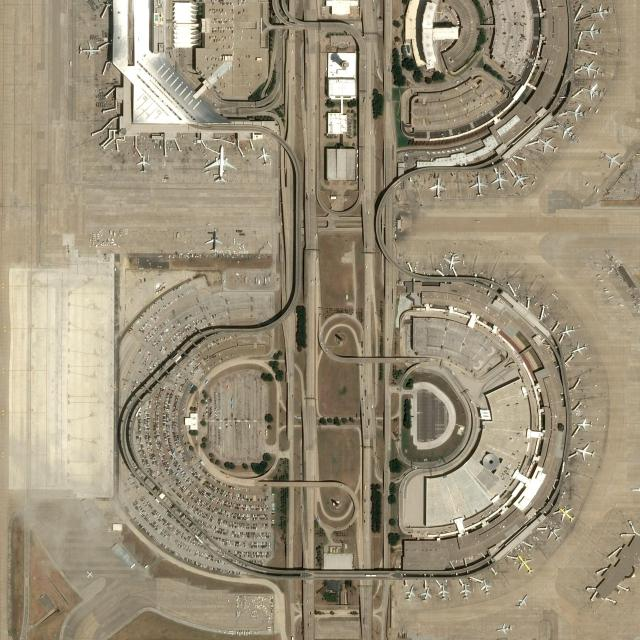aircraft: (202, 144, 236, 182), (602, 150, 626, 170), (76, 40, 100, 58), (426, 177, 446, 198), (579, 59, 601, 78), (468, 175, 487, 196), (516, 553, 534, 574), (580, 23, 602, 40), (575, 444, 595, 462), (566, 104, 588, 120), (442, 252, 460, 271), (490, 171, 508, 190), (558, 505, 576, 523), (206, 231, 222, 251), (590, 4, 612, 18), (546, 524, 562, 542), (512, 172, 528, 190), (538, 138, 558, 152), (582, 84, 602, 98), (457, 583, 472, 600), (496, 621, 514, 635), (570, 341, 588, 355), (478, 578, 492, 595), (559, 124, 576, 138), (135, 155, 149, 172), (437, 584, 450, 602), (559, 324, 575, 338), (419, 585, 431, 602), (258, 147, 270, 164), (577, 418, 593, 430), (516, 593, 526, 611), (405, 584, 415, 601)
